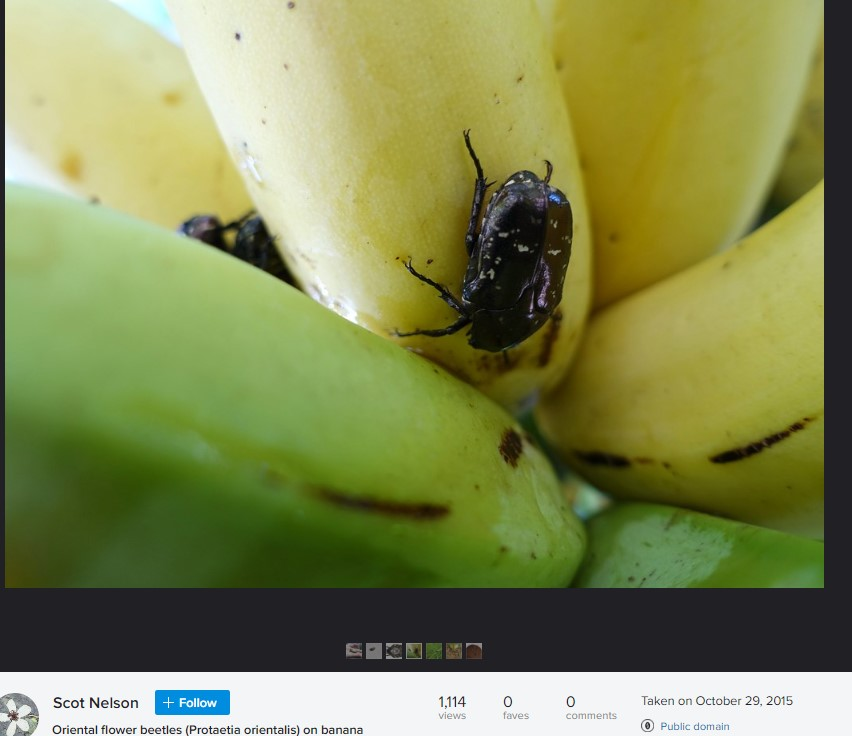Protaetia _orientalis: (379, 116, 577, 369)
